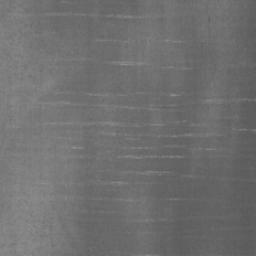Waist folding: (0, 89, 256, 224), (0, 3, 221, 72), (0, 241, 89, 256), (163, 38, 204, 44), (0, 147, 24, 156), (231, 63, 256, 69), (132, 252, 159, 256)
